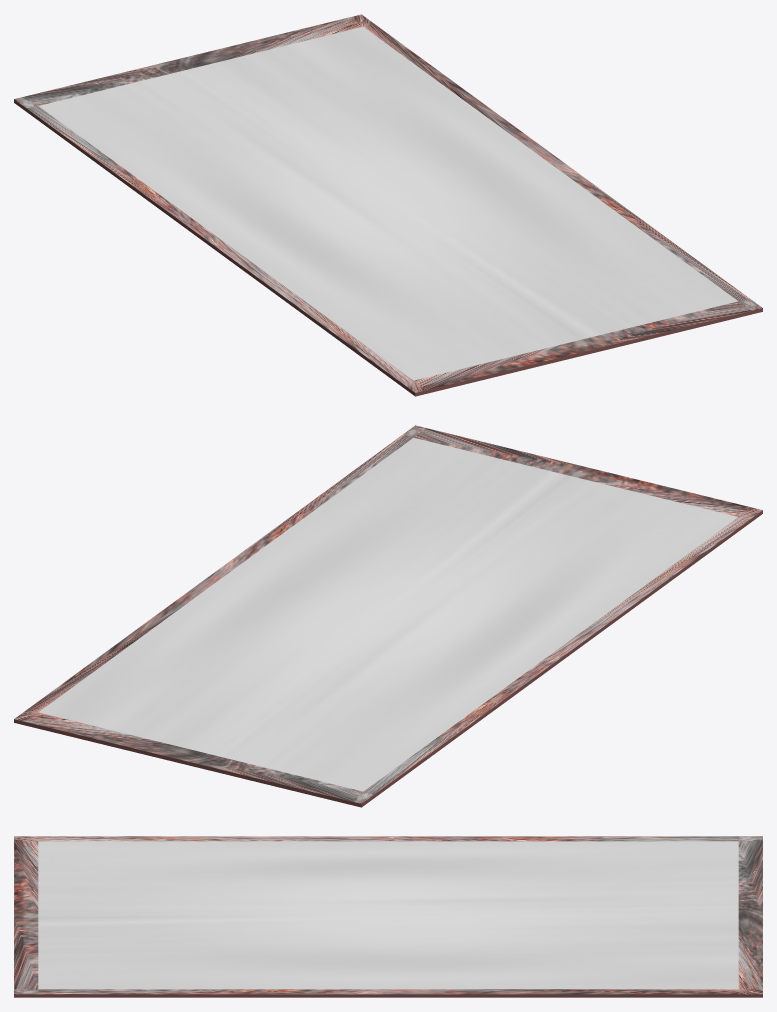
The model's file is bigwindow4x8_wtf.obj.
3 views of the same model, one above another, from view 1: azimuth 30°, elevation 25°; view 2: azimuth 150°, elevation 25°; view 3: azimuth 270°, elevation 25° (orthographic). The views are drawn at different scales.
Visible parts, largest first — view 1: group2, group68, group73, group45, group60, group62, group22, group34, group56, group71, group44, group51 (+13 smaller); view 2: group2, group39, group56, group51, group42, group44, group54, group71, group22, group62, group34, group73 (+13 smaller); view 3: group2, group60, group45, group38, group68, group58, group46, group26, group47, group51, group73, group44 (+13 smaller).
Part boxes in pixels (x1,y1,x2,y2): group2: (14, 14, 762, 396); group68: (397, 262, 575, 340); group73: (226, 243, 404, 321); group45: (372, 85, 550, 163); group60: (559, 223, 737, 300); group62: (389, 204, 567, 281); group22: (213, 155, 387, 223); group34: (376, 115, 549, 183); group56: (389, 184, 563, 252); group71: (401, 292, 574, 360); group44: (201, 66, 379, 144); group51: (39, 106, 217, 184); group2: (14, 425, 762, 807); group39: (282, 703, 375, 791); group56: (307, 526, 400, 614); group51: (363, 687, 456, 791); group42: (120, 663, 213, 751); group44: (201, 647, 294, 751); group54: (470, 566, 563, 654); group71: (563, 477, 656, 565); group22: (376, 614, 469, 702); group62: (388, 510, 481, 613); group34: (213, 575, 306, 663); group73: (551, 549, 644, 653); group2: (14, 836, 762, 997); group60: (39, 952, 271, 989); group45: (389, 952, 621, 989); group38: (389, 878, 621, 915); group68: (39, 878, 270, 915); group58: (214, 952, 388, 989); group46: (564, 952, 738, 989); group26: (214, 878, 388, 915); group47: (564, 878, 738, 915); group51: (506, 841, 737, 878); group73: (156, 841, 387, 878); group44: (506, 915, 737, 952).
Size of the model in its own units: 330 by 3.29 by 660.
